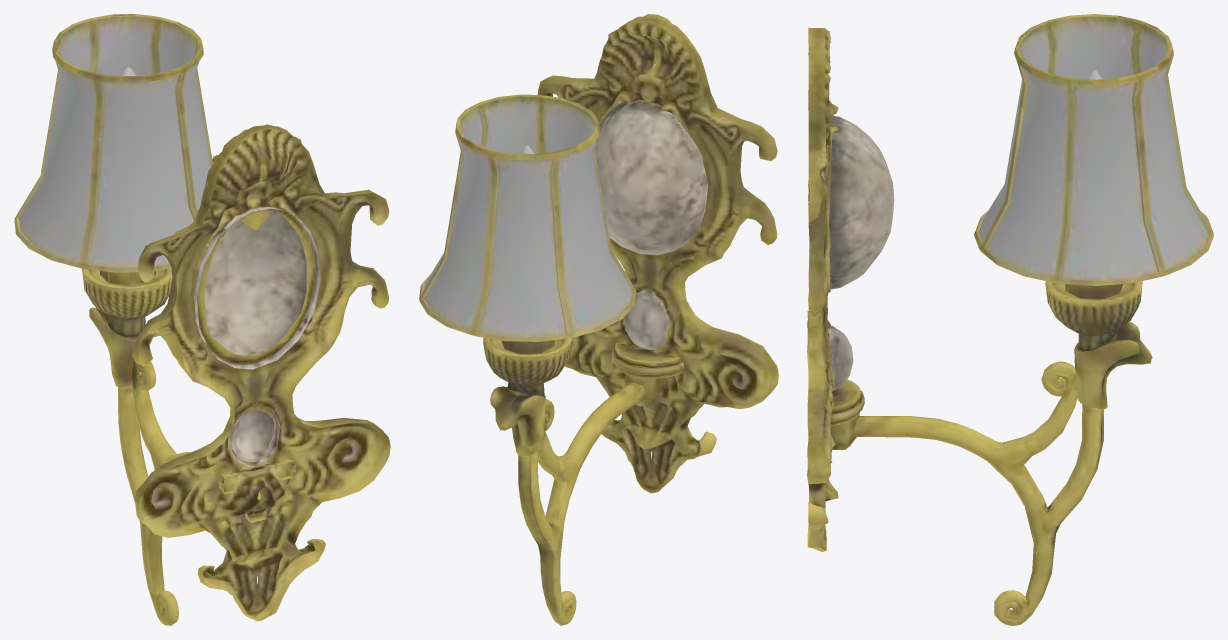
Rendered from luz_aplique_antiguo.glb.
The picture shows the model from 3 angles, left to right: view 1: azimuth 30°, elevation 25°; view 2: azimuth 150°, elevation 25°; view 3: azimuth 270°, elevation 25°; orthographic projection. The views are drawn at different scales.
Visible parts, largest first — view 1: defaultMaterial; view 2: defaultMaterial; view 3: defaultMaterial.
Boxes of the visible parts, x1,y1,x2,y2 form: defaultMaterial: (14, 14, 390, 625); defaultMaterial: (419, 14, 778, 625); defaultMaterial: (807, 14, 1213, 625).
Bounding box in the file's own units: 0.1788 × 0.3802 × 0.2359.
1 material, 1 textured.
